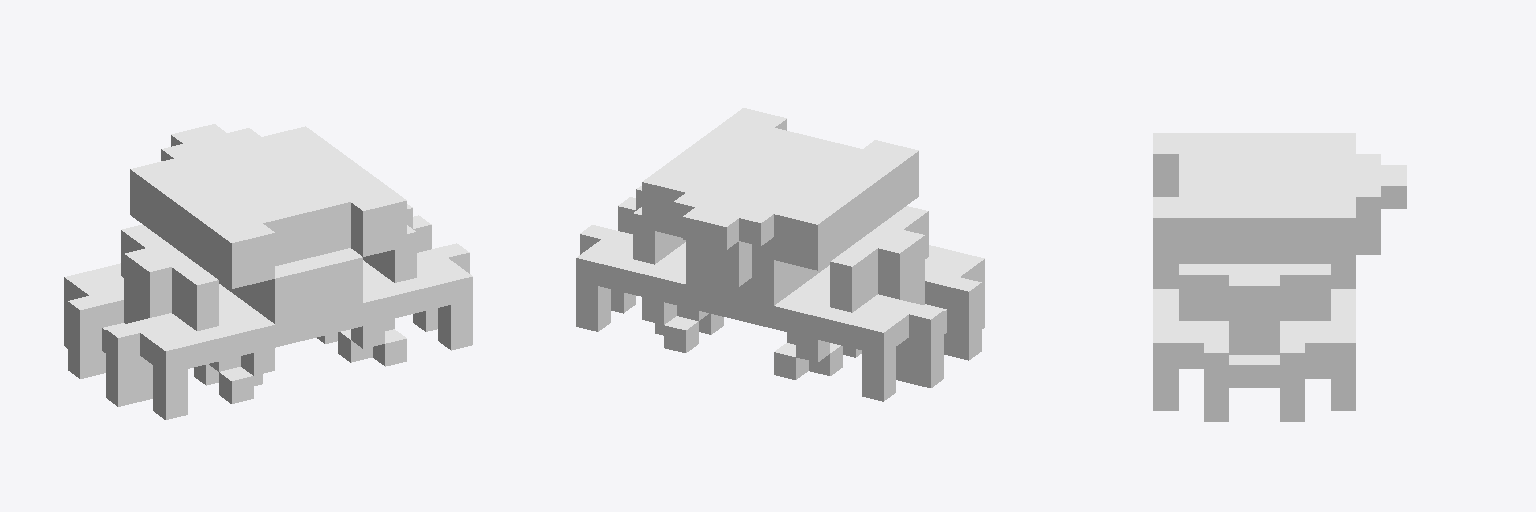
The model's file is SpaceInvader2.3.obj.
The picture shows the model from 3 angles: view 1: azimuth 30°, elevation 25°; view 2: azimuth 150°, elevation 25°; view 3: azimuth 270°, elevation 25°; orthographic projection.
Parts seen in each view (by area): view 1: object 1; view 2: object 1; view 3: object 1.
Boxes of the visible parts, x1=… form: object 1: x1=64, y1=124, x2=472, y2=419; object 1: x1=576, y1=108, x2=984, y2=401; object 1: x1=1153, y1=133, x2=1406, y2=421.
Bounding box in the file's own units: 1.6 × 0.7 × 1.